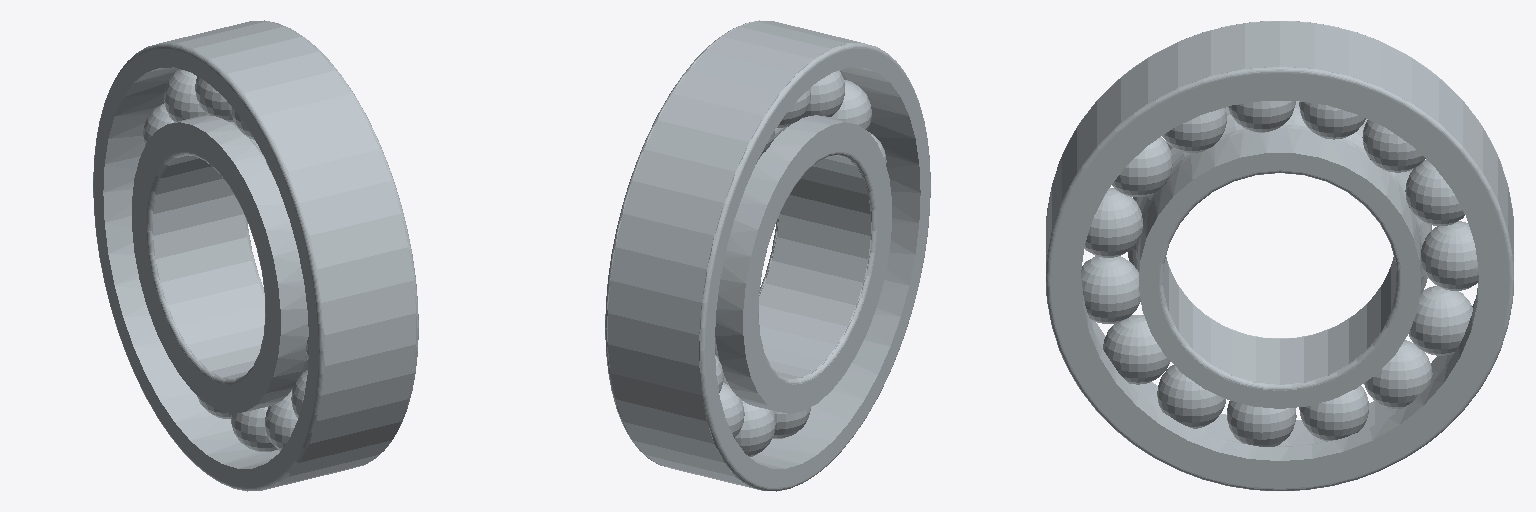
URDF robot description (bearing):
<?xml version="1.0"?>
<!--
  BEARING — bearing.urdf
  =========================================================================
  Source mesh   : meshes/Bearing.obj  (Fusion 360 export, units = cm)
  Raw bbox      : local-X 0.3175cm (axial width) x local-Y/Z ~1.27cm (OD)
                  -> axial width 3.175mm, OD 12.7mm
  Scale applied : 0.01 (cm -> m). Already well under the 80mm/3kg limits,
                  so no further "shrink for grasp" scaling is needed —
                  0.01 is applied purely for correct real-world sizing.

  COLLISION SIMPLIFICATION: the full bearing mesh has many small radial
  features (ball pockets / races) that cause contact-solver jitter when
  the parallel gripper closes on it. Visual keeps the detailed mesh;
  collision uses a simple <cylinder> sized to the bearing's OD/width.
  Because the mesh's rotational axis lies along its local X (not the
  URDF cylinder's default local Z), the collision origin is rotated
  90 deg about Y to align the cylinder's axis with the bearing's bore.

  Mass hardcoded to 0.05 kg per spec (small hardware).
-->
<robot name="bearing">

  <material name="chrome">
    <color rgba="0.75 0.78 0.80 1.0"/>
  </material>

  <link name="bearing_link">

    <inertial>
      <!--
        Short cylinder, axis along local X: r=0.00635m, w=0.003175m,
        m=0.05kg. ixx is about the axial (bore) direction.
      -->
      <origin xyz="0 0 0" rpy="0 0 0"/>
      <mass value="0.05"/>
      <inertia ixx="1.008e-06" ixy="0.0" ixz="0.0"
               iyy="5.460e-07" iyz="0.0"
               izz="5.460e-07"/>
    </inertial>

    <visual>
      <origin xyz="0 0 0" rpy="0 0 0"/>
      <geometry>
        <mesh filename="../meshes/Bearing.obj" scale="0.01 0.01 0.01"/>
      </geometry>
      <material name="chrome"/>
    </visual>

    <collision>
      <!-- Rotate cylinder's default Z-axis onto the bearing's local X (bore) axis -->
      <origin xyz="0 0 0" rpy="0 1.5708 0"/>
      <geometry>
        <cylinder radius="0.00635" length="0.003175"/>
      </geometry>
    </collision>

  </link>

  <!--
    Genesis friction: set at load time via material, e.g.
        gs.materials.Rigid(friction=0.7)
    Slightly lower than the gear parts (0.7 vs 1.0) since the chrome
    outer race is smoother/more polished than the machined gear teeth,
    plus small rolling/spinning friction to damp residual spin jitter
    once grasped.
  -->
  <gazebo reference="bearing_link">
    <mu1>0.7</mu1>
    <mu2>0.7</mu2>
  </gazebo>

</robot>

--- Facts derived from the render (not from the file) ---
The picture shows the robot from 3 angles, left to right: view 1: azimuth 30°, elevation 25°; view 2: azimuth 150°, elevation 25°; view 3: azimuth 270°, elevation 25°; orthographic projection.
Model bearing with 1 links and 0 joints (none), rooted at bearing_link, posed all joints at 0.
Visible links, largest first — view 1: bearing_link; view 2: bearing_link; view 3: bearing_link.
Boxes of the visible links, box(x1,y1,x2,y2) form: bearing_link: box(93, 20, 418, 491); bearing_link: box(605, 20, 930, 491); bearing_link: box(1046, 21, 1513, 490).
Bounding box of the posed robot: 0.0032 × 0.0127 × 0.0127 m (x, y, z).
Meshes: 1 distinct files referenced, 1 mesh visuals loaded (1 OBJ).
